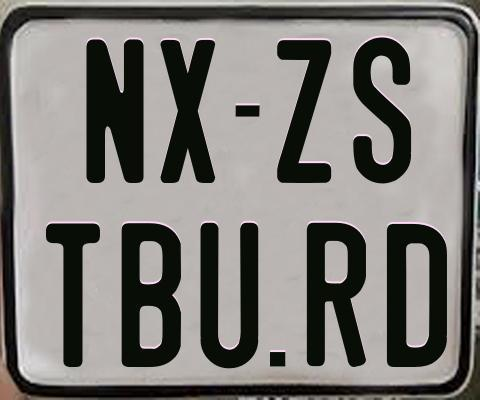B: (121, 222, 186, 372)
D: (386, 223, 446, 366)
N: (84, 38, 147, 184)
R: (305, 220, 366, 365)
S: (353, 37, 413, 184)
T: (44, 222, 102, 369)
U: (200, 222, 259, 370)
X: (159, 37, 217, 185)
Z: (277, 37, 336, 184)
